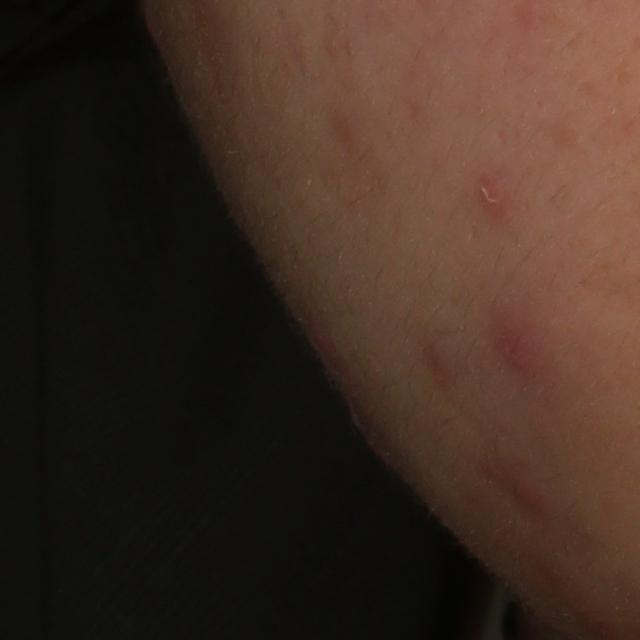papule: (494, 322, 566, 378), (476, 170, 506, 211), (512, 474, 548, 506)
